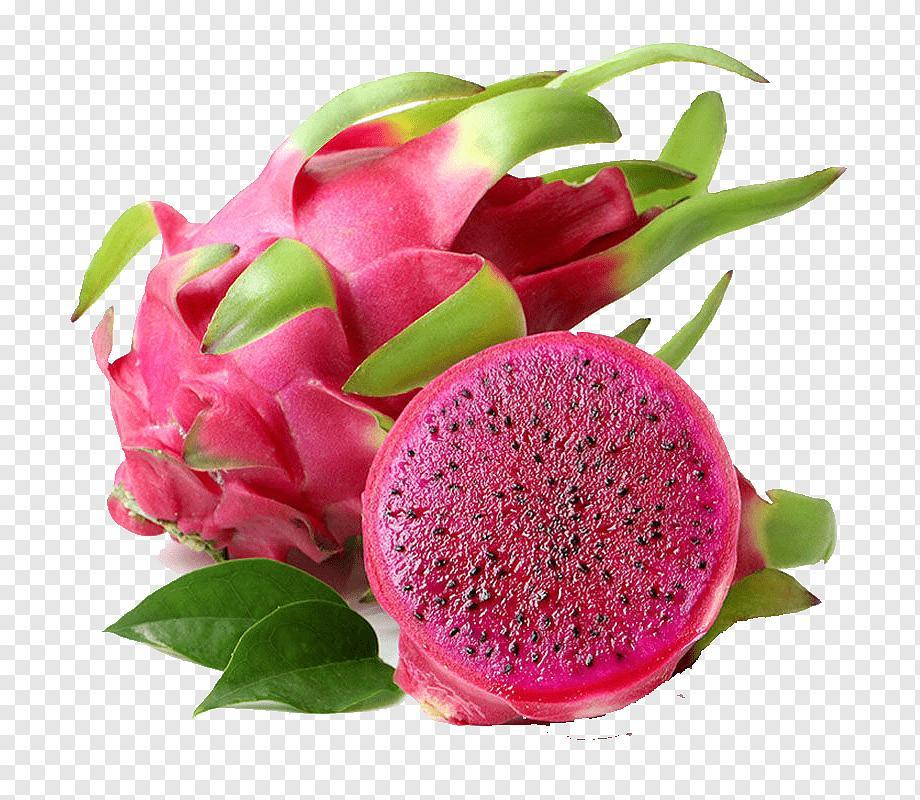dragon-fruit: (108, 144, 594, 552), (359, 330, 742, 724)
